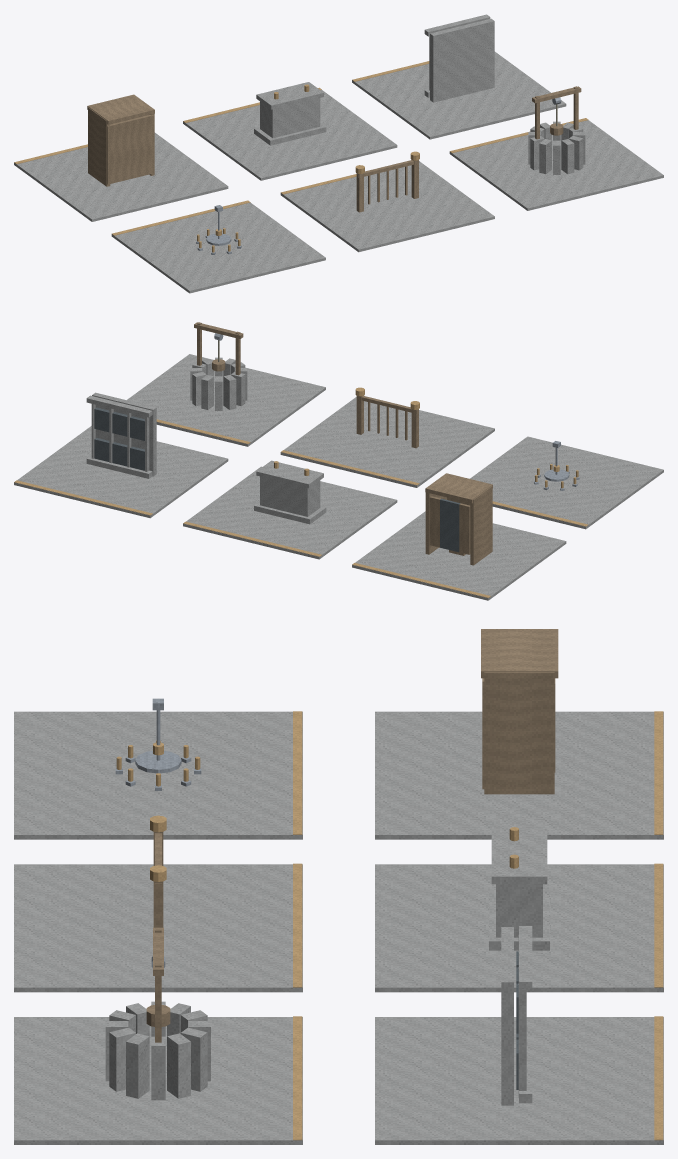
File: level_blockout_kit_wld_10_p02.glb
The picture shows the model from 3 angles, top to bottom: view 1: azimuth 30°, elevation 25°; view 2: azimuth 150°, elevation 25°; view 3: azimuth 270°, elevation 25°; orthographic projection. The views are drawn at different scales.
Visible parts, largest first — view 1: level_blockout_kit_wld_10_p02; view 2: level_blockout_kit_wld_10_p02; view 3: level_blockout_kit_wld_10_p02.
Part boxes in pixels (x1=…): level_blockout_kit_wld_10_p02: x1=14, y1=14, x2=663, y2=293; level_blockout_kit_wld_10_p02: x1=14, y1=322, x2=663, y2=600; level_blockout_kit_wld_10_p02: x1=14, y1=629, x2=663, y2=1144.
Size of the model in its own units: 19.65 by 2.92 by 12.6.
Materials: 6 (6 with a texture image).
